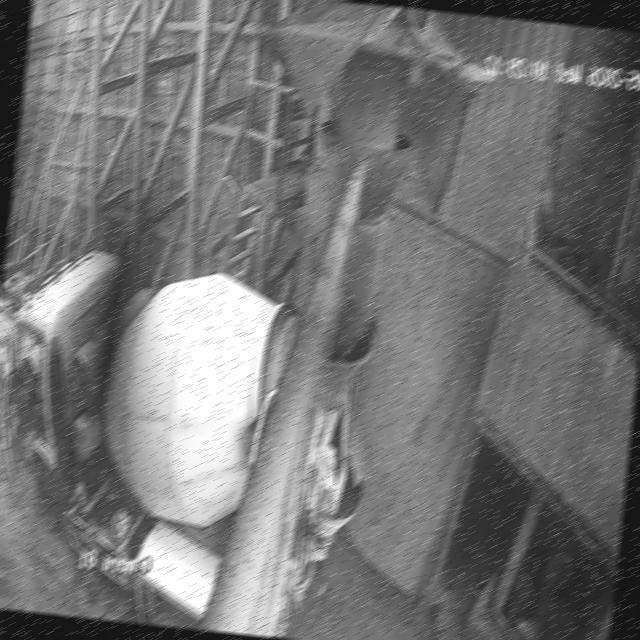cement_mixer_truck: (0, 241, 383, 640)
swing_chute: (298, 119, 411, 350)
